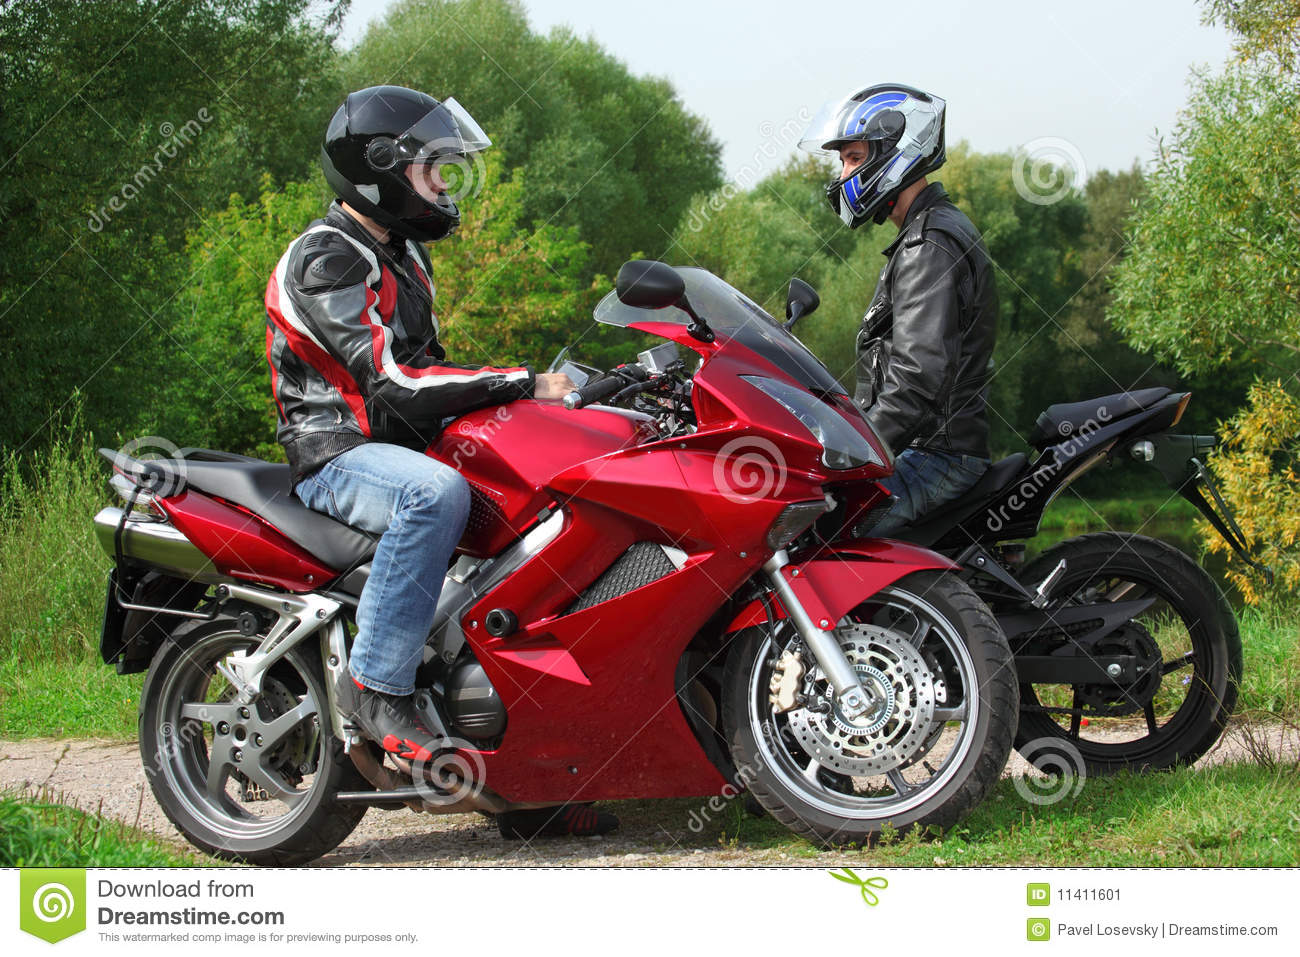helmet: (326, 94, 471, 246), (815, 89, 960, 208)
